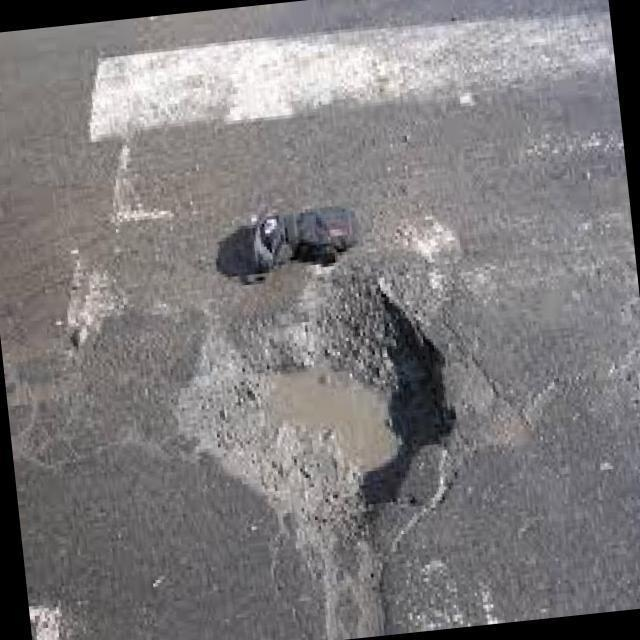pothole: (176, 254, 466, 599)
